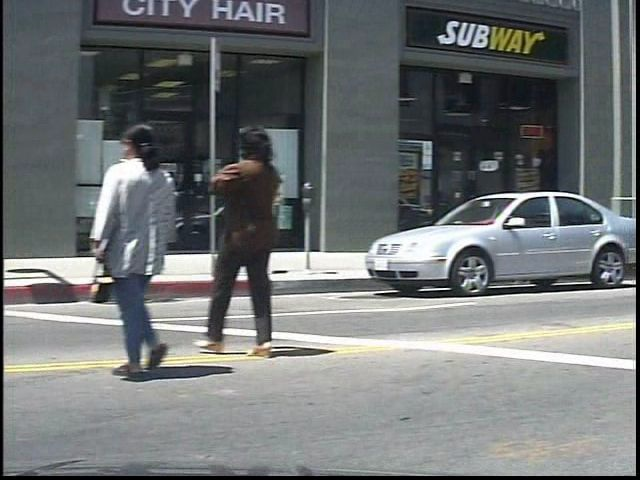person: (99, 121, 204, 380), (213, 120, 300, 359)
